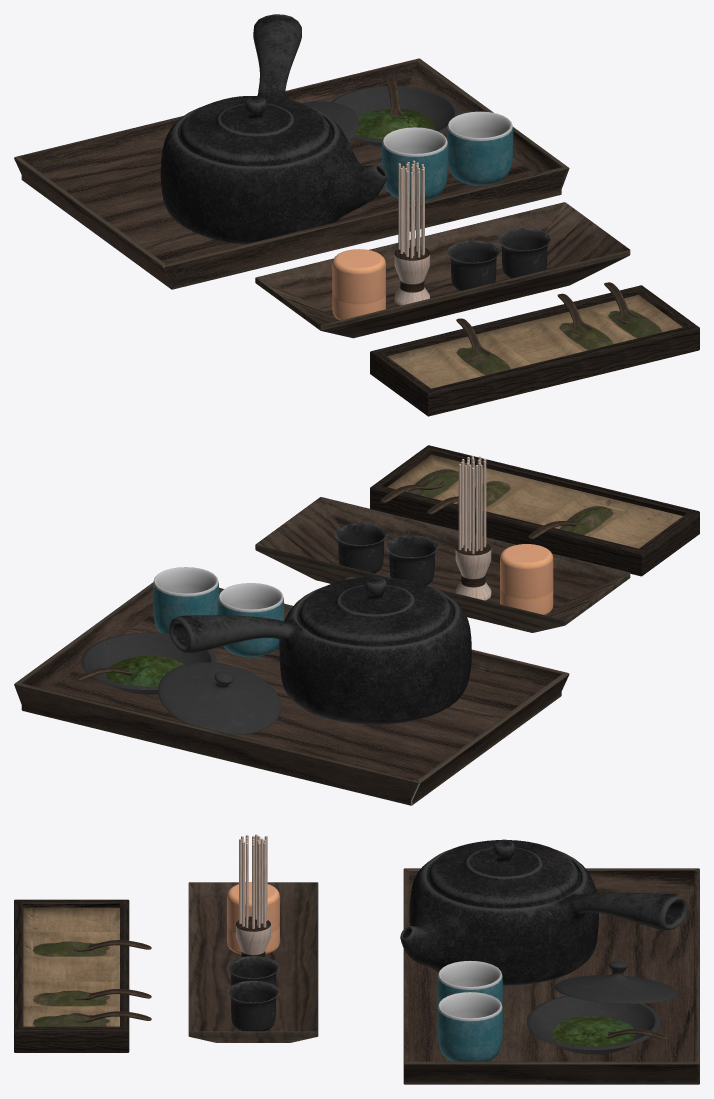
Rendered from tea.fbx.
3 views of the same model, one above another, from view 1: azimuth 30°, elevation 25°; view 2: azimuth 150°, elevation 25°; view 3: azimuth 270°, elevation 25° (orthographic).
Parts seen in each view (by area): view 1: MTHTray1.Shape, MTHPot1.Shape, MTHTeaTray1.Shape, MTHTray3.Shape, MTHTeaContainer2.Shape, MTHCup1_dup_2.Shape, MTHBrush.Shape, MTHCup1.Shape, MTHContainer.Shape, MTHCup2_dup_2.Shape, MTHCup2.Shape, MTHTeaContainer2Cap.Shape; view 2: MTHTray1.Shape, MTHPot1.Shape, MTHTeaTray1.Shape, MTHTray3.Shape, MTHTeaContainer2Cap.Shape, MTHTeaContainer2.Shape, MTHBrush.Shape, MTHContainer.Shape, MTHCup1_dup_2.Shape, MTHCup1.Shape, MTHCup2.Shape, MTHCup2_dup_2.Shape; view 3: MTHTray1.Shape, MTHPot1.Shape, MTHTeaTray1.Shape, MTHTray3.Shape, MTHTeaContainer2.Shape, MTHCup1_dup_2.Shape, MTHBrush.Shape, MTHTeaContainer2Cap.Shape, MTHCup2.Shape, MTHCup1.Shape, MTHContainer.Shape, MTHCup2_dup_2.Shape (+3 smaller).
Boxes of the visible parts, x1,y1,x2,y2 form: MTHTray1.Shape: (14,58,569,289); MTHPot1.Shape: (160,14,387,244); MTHTeaTray1.Shape: (370,285,699,416); MTHTray3.Shape: (255,202,630,338); MTHTeaContainer2.Shape: (331,85,459,146); MTHCup1_dup_2.Shape: (447,111,513,185); MTHBrush.Shape: (394,160,429,305); MTHCup1.Shape: (382,127,448,201); MTHContainer.Shape: (332,249,385,320); MTHCup2_dup_2.Shape: (447,240,500,290); MTHCup2.Shape: (498,228,551,278); MTHTeaContainer2Cap.Shape: (301,101,358,141); MTHTray1.Shape: (14,582,569,805); MTHPot1.Shape: (169,576,471,724); MTHTeaTray1.Shape: (370,445,699,576); MTHTray3.Shape: (255,497,630,632); MTHTeaContainer2Cap.Shape: (158,662,281,734); MTHTeaContainer2.Shape: (81,632,216,694); MTHBrush.Shape: (455,456,491,600); MTHContainer.Shape: (500,544,553,615); MTHCup1_dup_2.Shape: (153,567,219,633); MTHCup1.Shape: (218,583,284,657); MTHCup2.Shape: (334,523,387,573); MTHCup2_dup_2.Shape: (385,535,438,585); MTHTray1.Shape: (403,868,699,1084); MTHPot1.Shape: (400,839,687,985); MTHTeaTray1.Shape: (14,899,129,1052); MTHTray3.Shape: (188,882,318,1042); MTHTeaContainer2.Shape: (526,995,660,1054); MTHCup1_dup_2.Shape: (437,992,502,1061); MTHBrush.Shape: (236,834,270,957); MTHTeaContainer2Cap.Shape: (555,961,678,1003); MTHCup2.Shape: (227,980,279,1031); MTHCup1.Shape: (437,960,502,1006); MTHContainer.Shape: (227,882,279,954); MTHCup2_dup_2.Shape: (227,956,279,985).
Bounding box in the file's own units: 47.39 × 15.48 × 70.22.
